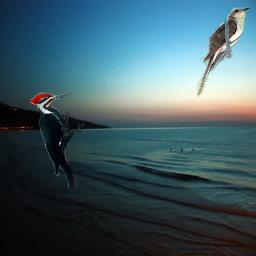Cuckoo: (197, 7, 250, 97)
Woodpecker: (30, 91, 87, 188)
